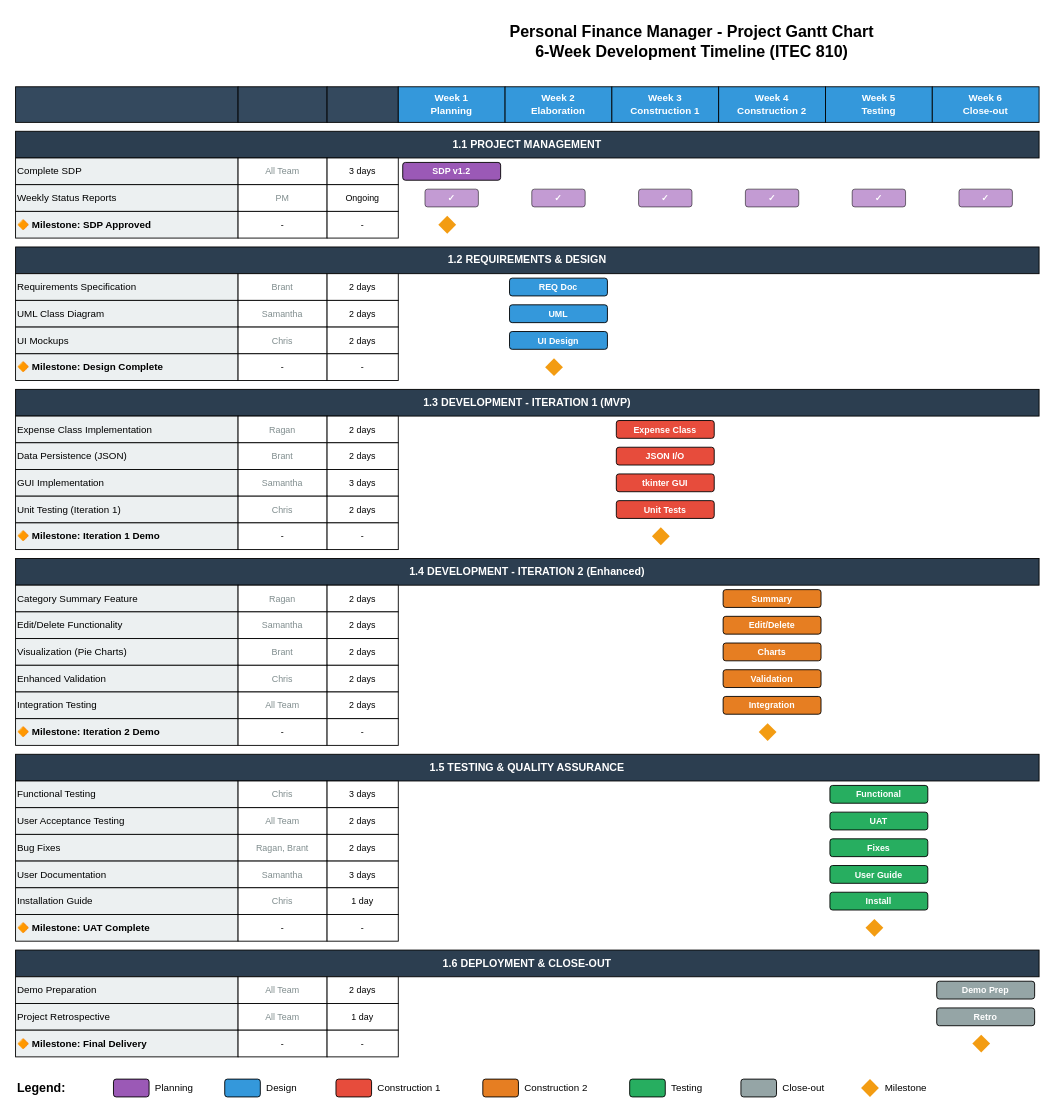
Image size: 1064x1116. Some labels were removed from this diagram. Each missing label, with the centre of its shape:
"Duration" goes at point (362, 104).
"Owner" goes at point (282, 104).
"Task / Phase" goes at point (126, 104).
